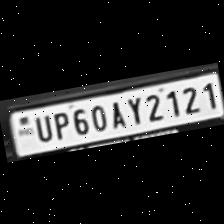0: (85, 100, 110, 133)
1: (197, 78, 220, 112), (160, 86, 181, 118)
2: (139, 89, 166, 123), (175, 82, 201, 116)
6: (66, 104, 90, 136)
A: (104, 97, 127, 130)
P: (47, 108, 72, 141)
U: (30, 111, 53, 142)
Y: (120, 92, 146, 126)
